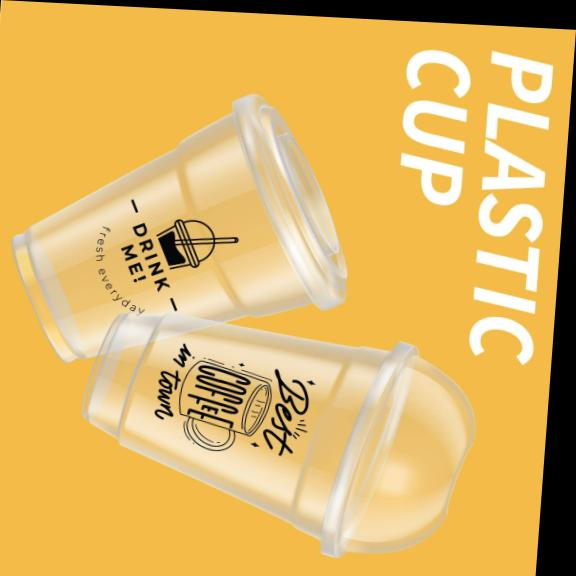Plastik: (83, 315, 473, 557), (12, 95, 345, 361)
